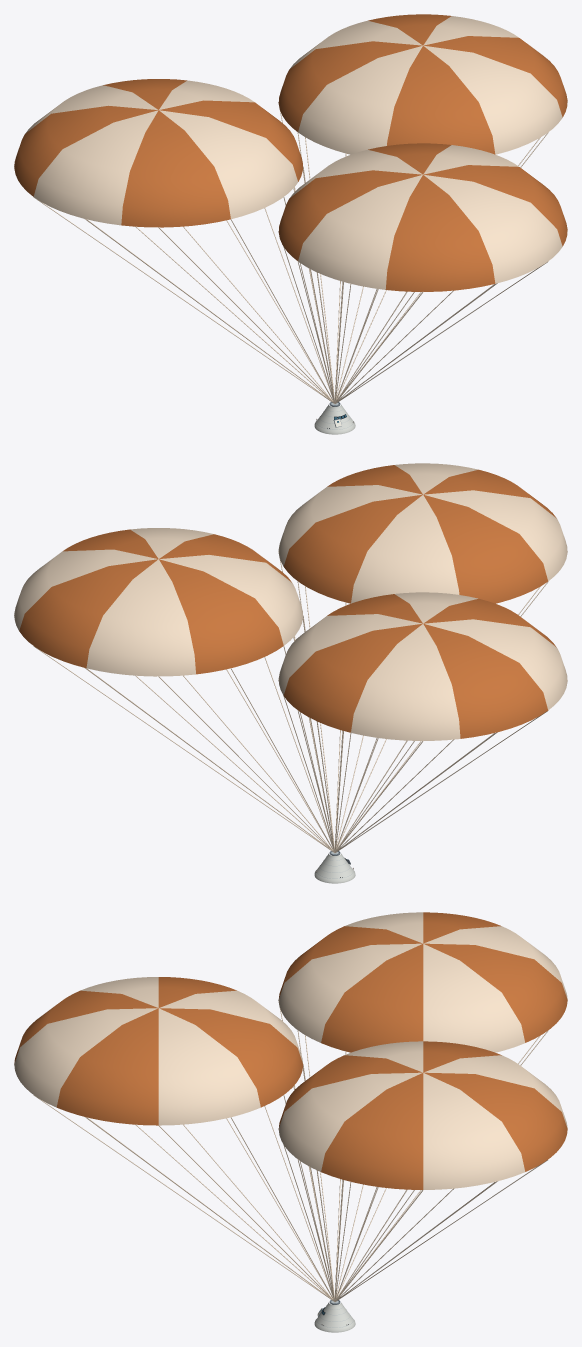
Rendered from orion_recovery.glb.
The picture shows the model from 3 angles, top to bottom: view 1: azimuth 30°, elevation 25°; view 2: azimuth 150°, elevation 25°; view 3: azimuth 270°, elevation 25°; orthographic projection.
Visible parts, largest first — view 1: orion_cm.parachutes_deployed.main_01.mesh_Parachute_canopy_f, orion_cm.parachutes_deployed.main_03.mesh_Parachute_canopy_f, orion_cm.parachutes_deployed.main_03.mesh_Spray-on_insulatio, orion_cm.parachutes_deployed.main_01.mesh_Spray-on_insulatio, orion_cm.parachutes_deployed.main_02.mesh_Parachute_canopy_f, orion_cm.parachutes_deployed.main_02.mesh_Spray-on_insulatio, orion_cm.parachutes_deployed.mesh_Parachute_canopy_fabric, orion_cm.mesh_Pale_thermal_blanket; view 2: orion_cm.parachutes_deployed.main_03.mesh_Spray-on_insulatio, orion_cm.parachutes_deployed.main_02.mesh_Spray-on_insulatio, orion_cm.parachutes_deployed.main_03.mesh_Parachute_canopy_f, orion_cm.parachutes_deployed.main_02.mesh_Parachute_canopy_f, orion_cm.parachutes_deployed.main_01.mesh_Spray-on_insulatio, orion_cm.parachutes_deployed.main_01.mesh_Parachute_canopy_f, orion_cm.parachutes_deployed.mesh_Parachute_canopy_fabric, orion_cm.mesh_Pale_thermal_blanket; view 3: orion_cm.parachutes_deployed.main_01.mesh_Parachute_canopy_f, orion_cm.parachutes_deployed.main_02.mesh_Spray-on_insulatio, orion_cm.parachutes_deployed.main_01.mesh_Spray-on_insulatio, orion_cm.parachutes_deployed.main_02.mesh_Parachute_canopy_f, orion_cm.parachutes_deployed.main_03.mesh_Spray-on_insulatio, orion_cm.parachutes_deployed.main_03.mesh_Parachute_canopy_f, orion_cm.parachutes_deployed.mesh_Parachute_canopy_fabric, orion_cm.mesh_Pale_thermal_blanket.
Part boxes in pixels (<box>): orion_cm.parachutes_deployed.main_01.mesh_Parachute_canopy_f: <box>289,145,562,289</box>; orion_cm.parachutes_deployed.main_03.mesh_Parachute_canopy_f: <box>25,80,297,225</box>; orion_cm.parachutes_deployed.main_03.mesh_Spray-on_insulatio: <box>14,79,302,227</box>; orion_cm.parachutes_deployed.main_01.mesh_Spray-on_insulatio: <box>278,143,567,291</box>; orion_cm.parachutes_deployed.main_02.mesh_Parachute_canopy_f: <box>289,16,562,154</box>; orion_cm.parachutes_deployed.main_02.mesh_Spray-on_insulatio: <box>278,14,567,154</box>; orion_cm.parachutes_deployed.mesh_Parachute_canopy_fabric: <box>14,102,567,403</box>; orion_cm.mesh_Pale_thermal_blanket: <box>314,404,355,434</box>; orion_cm.parachutes_deployed.main_03.mesh_Spray-on_insulatio: <box>283,594,556,738</box>; orion_cm.parachutes_deployed.main_02.mesh_Spray-on_insulatio: <box>19,529,291,674</box>; orion_cm.parachutes_deployed.main_03.mesh_Parachute_canopy_f: <box>278,592,567,740</box>; orion_cm.parachutes_deployed.main_02.mesh_Parachute_canopy_f: <box>14,528,302,676</box>; orion_cm.parachutes_deployed.main_01.mesh_Spray-on_insulatio: <box>283,465,556,603</box>; orion_cm.parachutes_deployed.main_01.mesh_Parachute_canopy_f: <box>278,463,567,603</box>; orion_cm.parachutes_deployed.mesh_Parachute_canopy_fabric: <box>14,551,567,852</box>; orion_cm.mesh_Pale_thermal_blanket: <box>314,853,355,883</box>; orion_cm.parachutes_deployed.main_01.mesh_Parachute_canopy_f: <box>14,977,302,1125</box>; orion_cm.parachutes_deployed.main_02.mesh_Spray-on_insulatio: <box>278,1041,567,1189</box>; orion_cm.parachutes_deployed.main_01.mesh_Spray-on_insulatio: <box>14,977,303,1125</box>; orion_cm.parachutes_deployed.main_02.mesh_Parachute_canopy_f: <box>278,1041,567,1189</box>; orion_cm.parachutes_deployed.main_03.mesh_Spray-on_insulatio: <box>278,912,567,1052</box>; orion_cm.parachutes_deployed.main_03.mesh_Parachute_canopy_f: <box>278,912,567,1052</box>; orion_cm.parachutes_deployed.mesh_Parachute_canopy_fabric: <box>14,1000,548,1301</box>; orion_cm.mesh_Pale_thermal_blanket: <box>314,1302,355,1332</box>.
Bounding box in the file's own units: 72.67 × 42.68 × 67.67.
